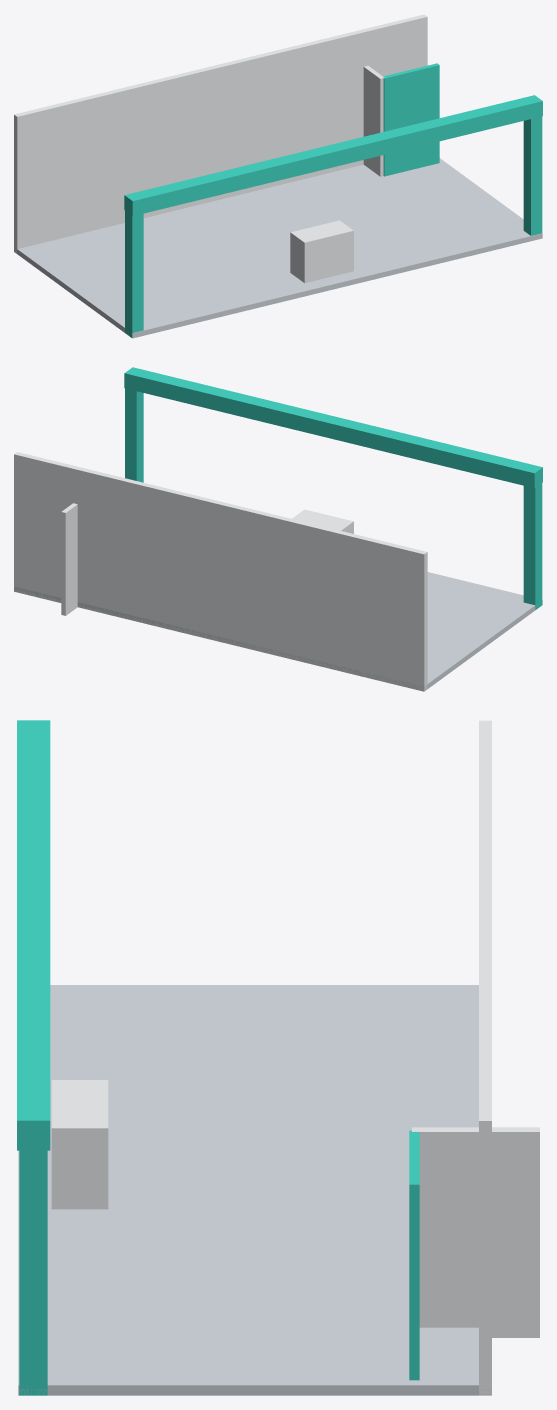
The picture shows the model from 3 angles, top to bottom: view 1: azimuth 30°, elevation 25°; view 2: azimuth 150°, elevation 25°; view 3: azimuth 270°, elevation 25°; orthographic projection. The views are drawn at different scales.
Visible parts, largest first — view 1: Exhibition Booth Concept; view 2: Exhibition Booth Concept; view 3: Exhibition Booth Concept.
Boxes of the visible parts, x1,y1,x2,y2 form: Exhibition Booth Concept: (14, 14, 542, 338); Exhibition Booth Concept: (14, 367, 542, 691); Exhibition Booth Concept: (17, 720, 539, 1395).
Size of the model in its own units: 10 by 3.2 by 5.52.
